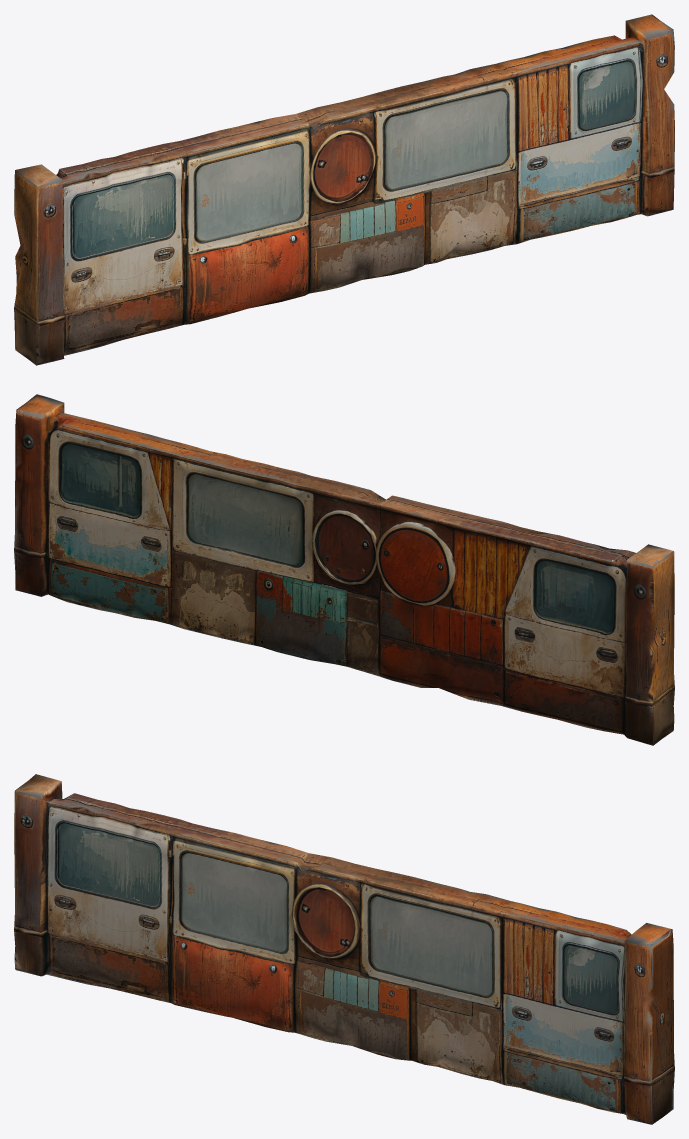
The model's file is Settle_Wall_Scrap.fbx.
3 renders of one model, top to bottom at view 1: azimuth 30°, elevation 25°; view 2: azimuth 150°, elevation 25°; view 3: azimuth 330°, elevation 25°, orthographic.
Visible parts, largest first — view 1: texture_mapping; view 2: texture_mapping; view 3: texture_mapping.
Boxes of the visible parts, x1,y1,x2,y2 form: texture_mapping: (14, 14, 674, 365); texture_mapping: (14, 394, 674, 745); texture_mapping: (14, 774, 674, 1124).
Bounding box in the file's own units: 0.9963 × 0.0781 × 0.2724.
Materials: 1 (1 with a texture image).
